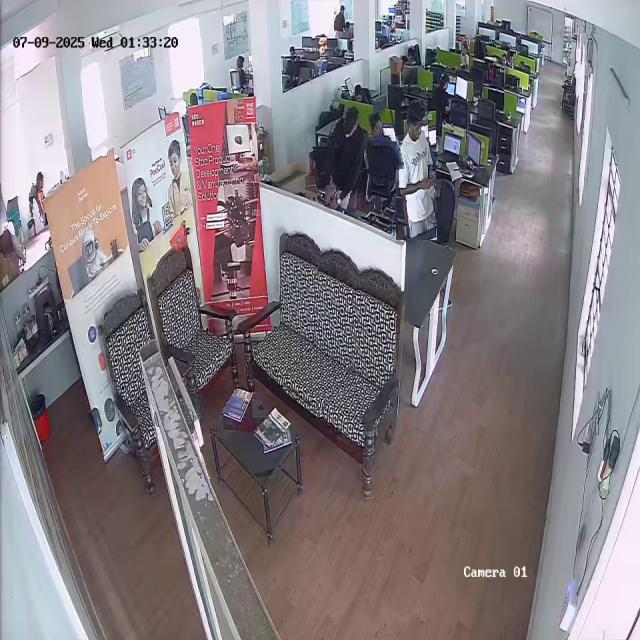person: (396, 101, 436, 240), (321, 104, 369, 212), (366, 110, 401, 173), (30, 172, 50, 213)
